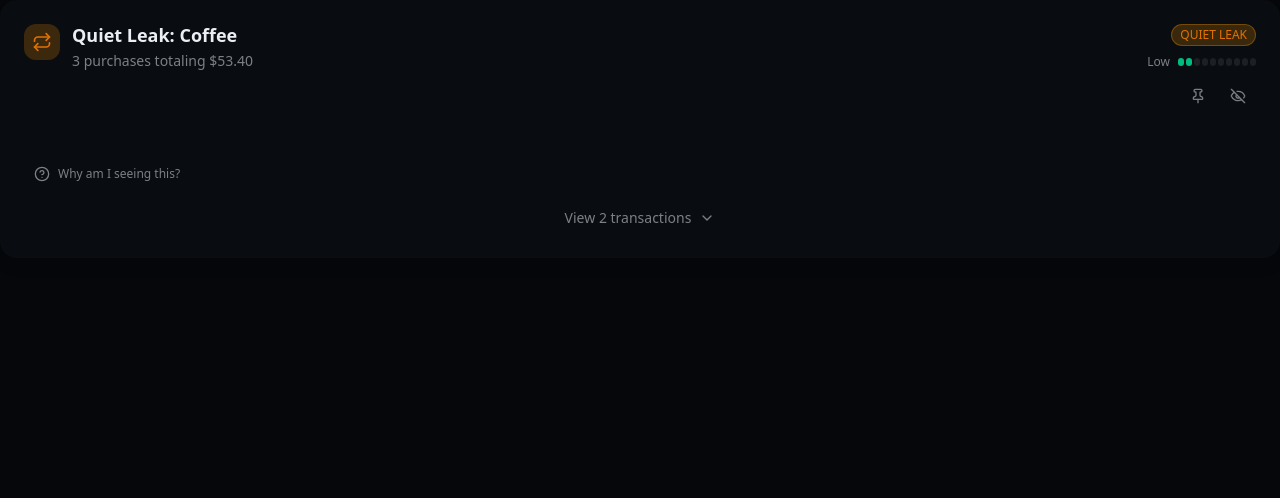
InsightCard › Why am I seeing this? explainability › shows explanation reason when button is clicked
Click the button "Why am I seeing this?".
click(107, 174)  # box [24,158,190,190]
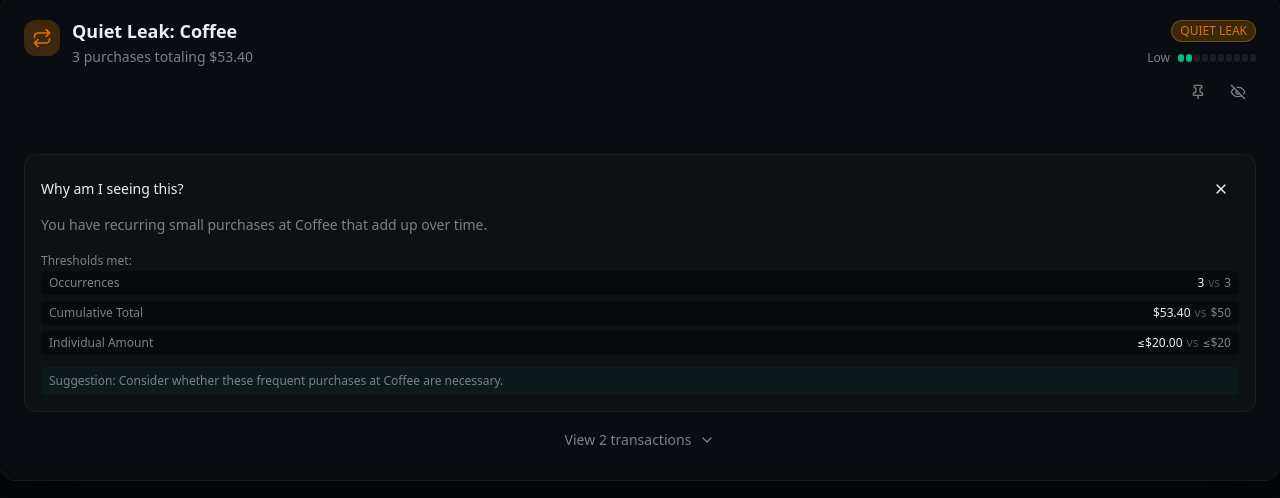
expect the text "recurring small purchases" is shown: met, box [41,215,487,234]
